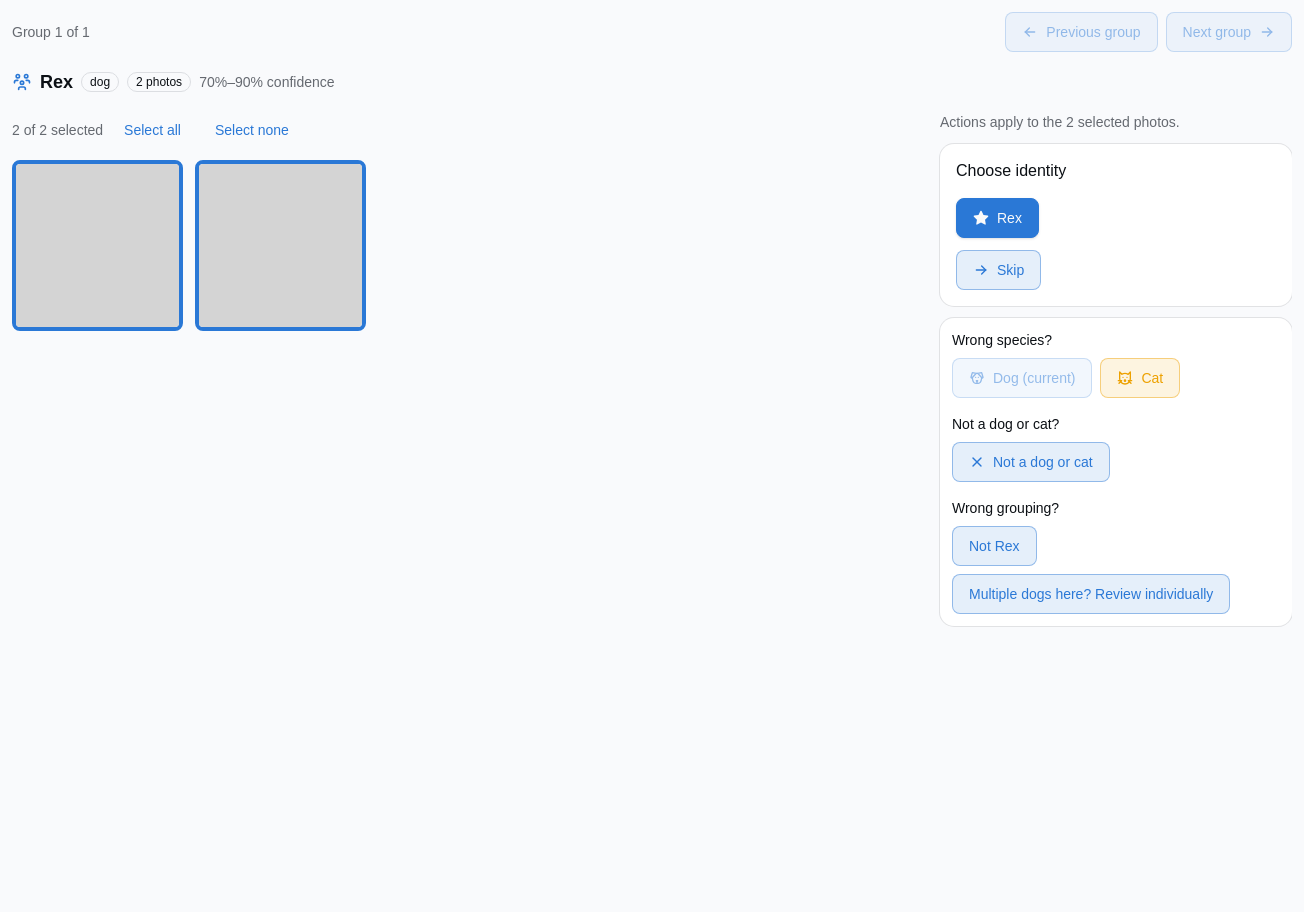
Test: ReviewGroupedPanel › marks selected members as not a dog or cat, skipping stale crops
The image size is (1304, 912).
Click the button "Not a dog or cat" at (1031, 462), box [952,442,1110,482]
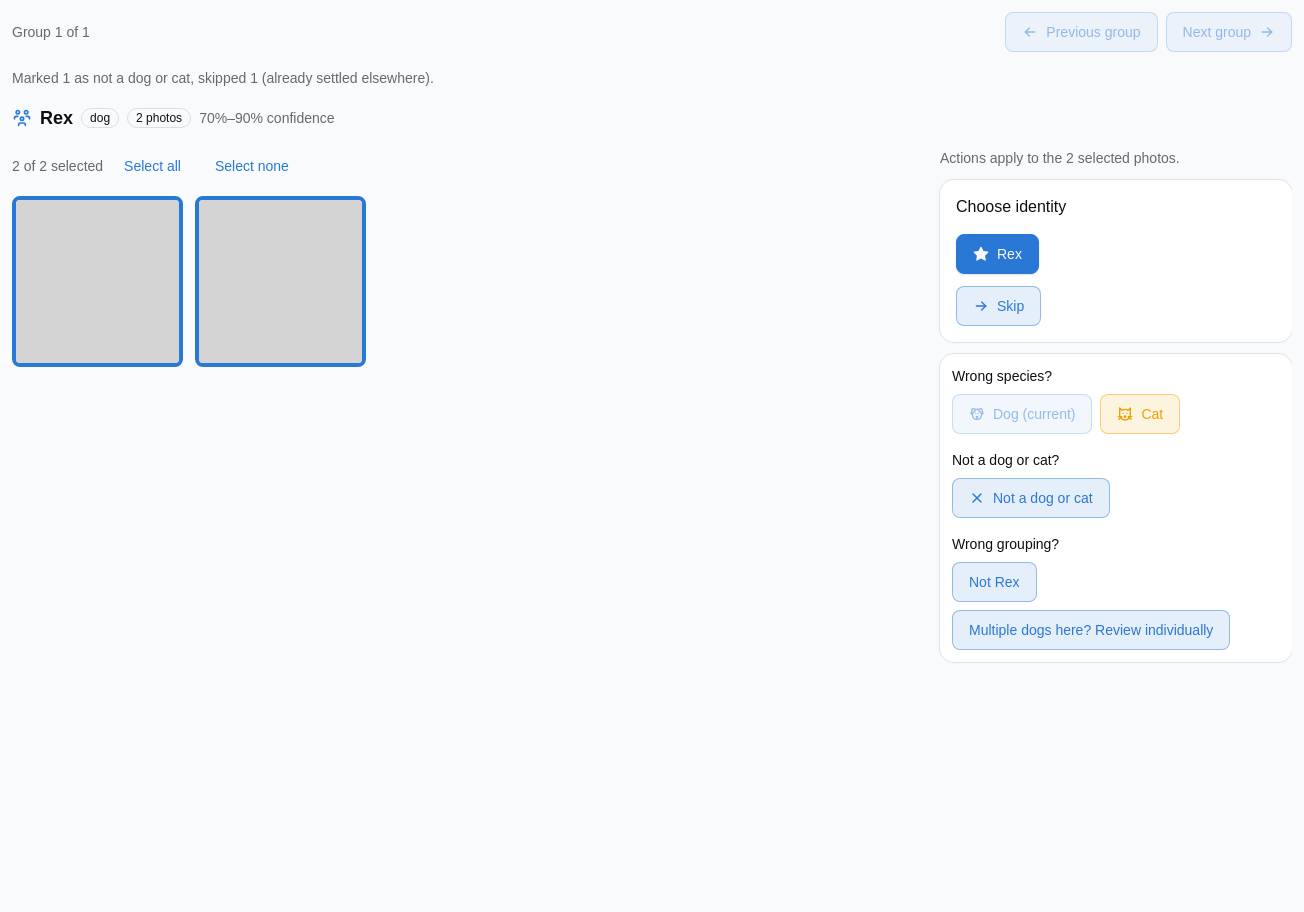
Expected: the text "Marked 1 as not a dog or cat, skipped 1" is shown, [12,70,434,86]
